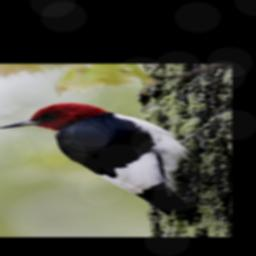Woodpecker: (0, 101, 211, 223)
